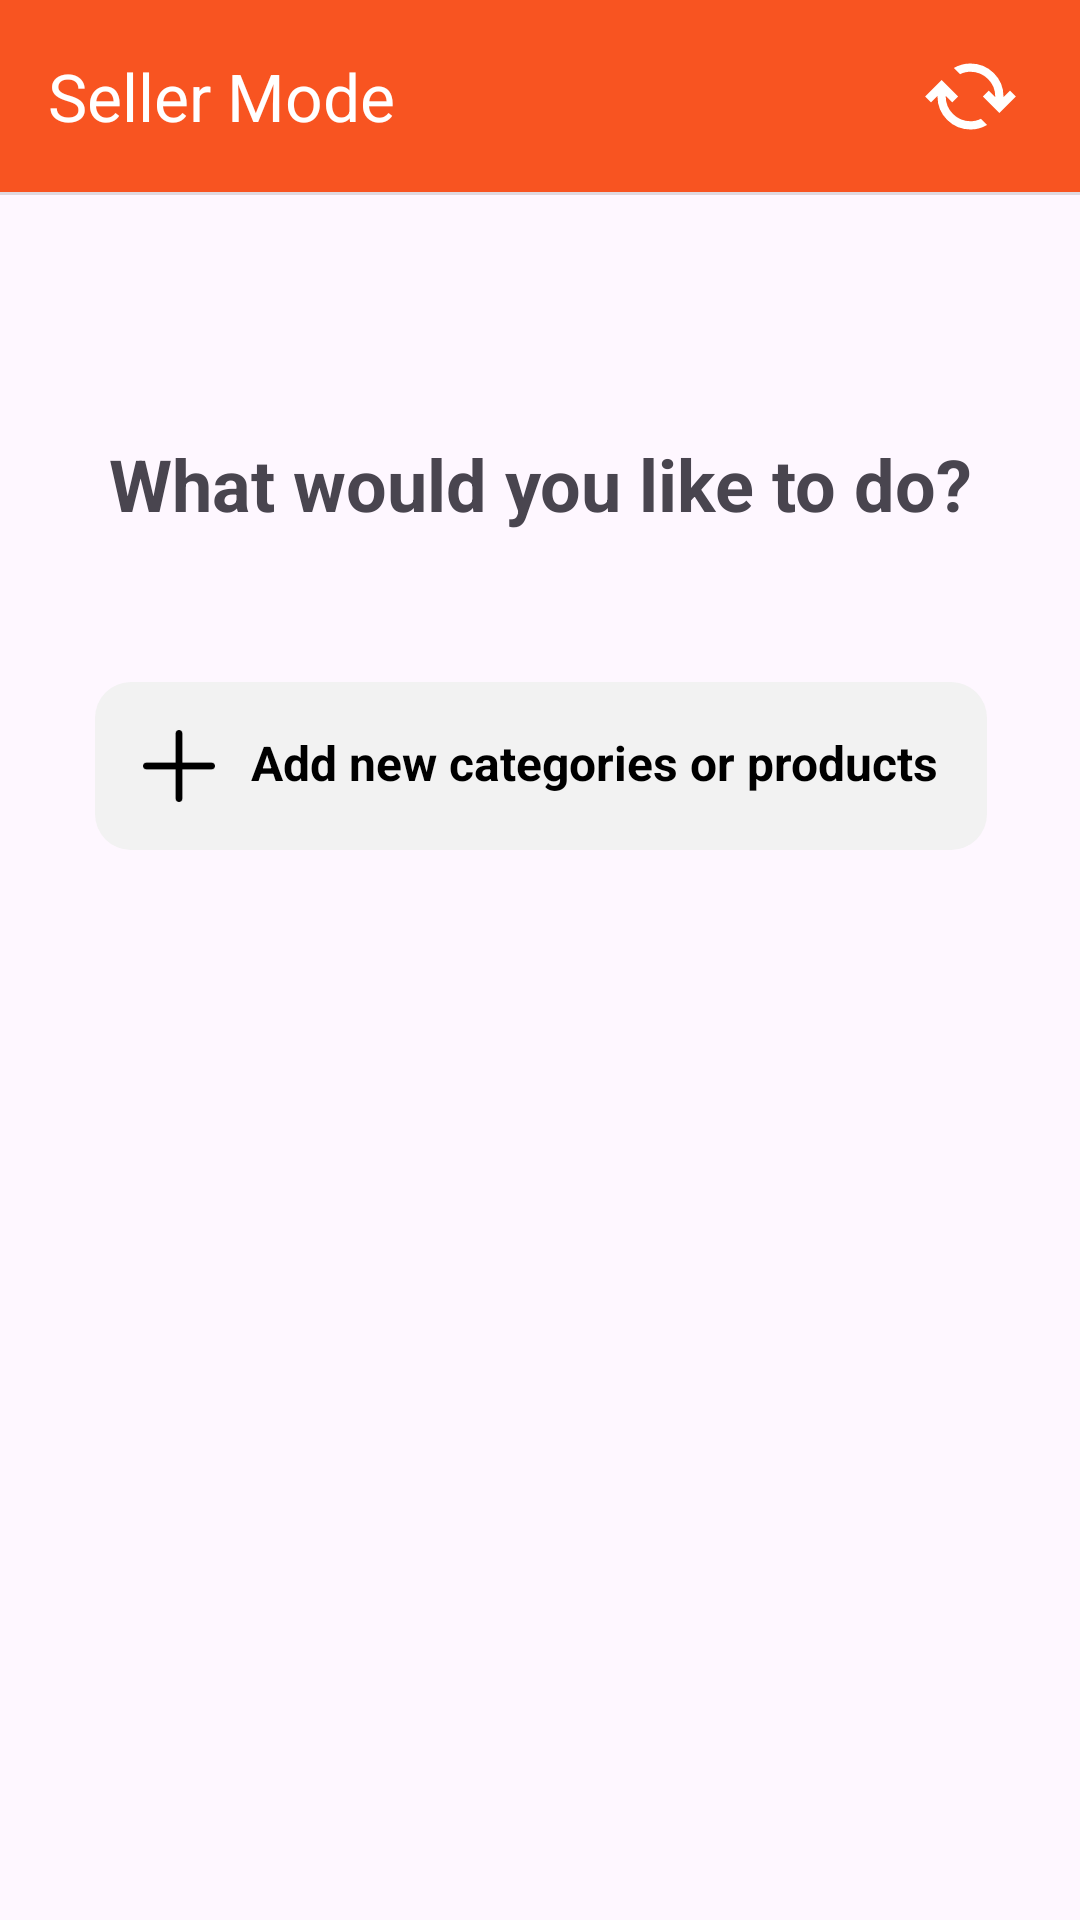

Screen size 1080w x 1920h. Icon name, then its center in pixels as (x=x, y=y):
swap: (x=970, y=96)
